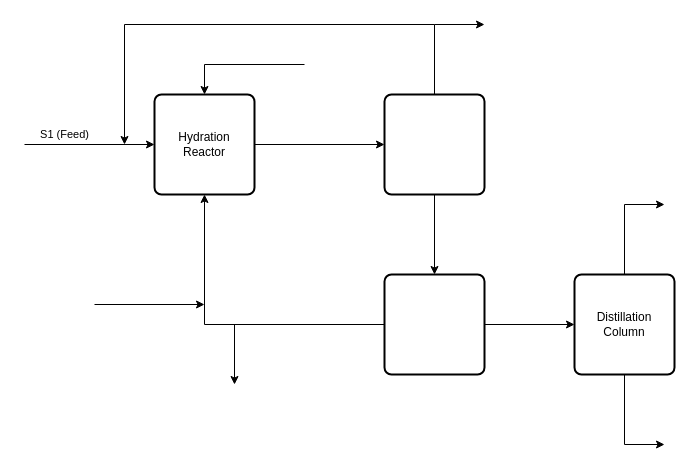
The diagram is 693 pixels wide and 470 high, and some of its shapes have lost their labels. The box of each missing label's shape, as (x1, y1, x2, y2) in pixels:
Decanter: (383, 273, 485, 375)
Flash Separator: (383, 93, 485, 195)
